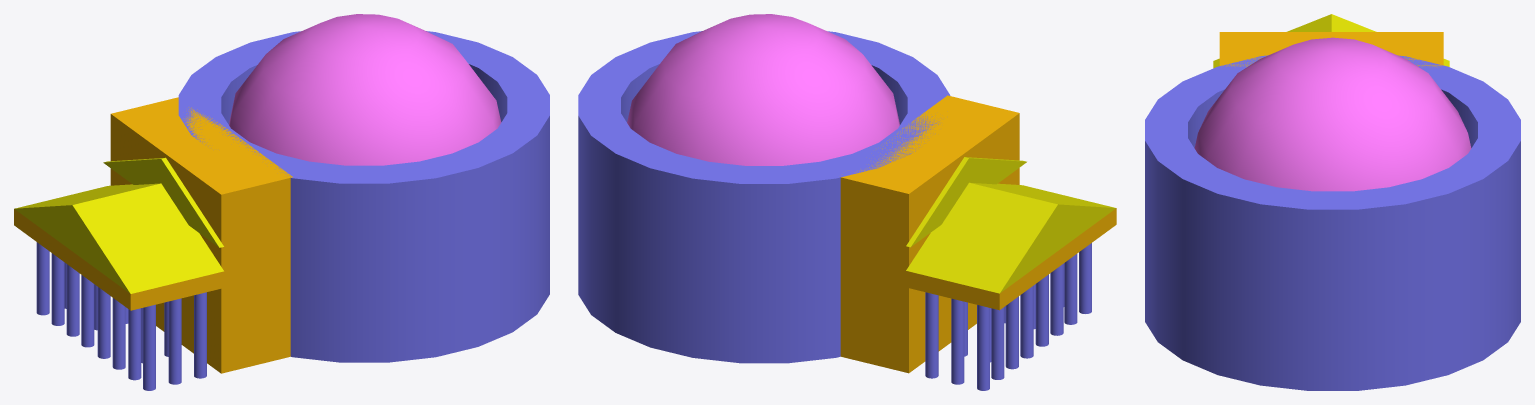
The model's file is Panteao_3D_V03_cm_Collada_GLB.glb.
3 renders of one model, left to right at view 1: azimuth 30°, elevation 25°; view 2: azimuth 150°, elevation 25°; view 3: azimuth 270°, elevation 25°, orthographic.
Parts seen in each view (by area): view 1: group_10, V-Ray_Sphere_Light, group_5, group_21, group_14, group_20, group_16, group_18, group_8, group_2, group_13, group_1 (+4 smaller); view 2: group_10, V-Ray_Sphere_Light, group_5, group_21, group_14, group_20, group_15, group_12, group_13, group_1, group_7, group_9 (+4 smaller); view 3: group_10, V-Ray_Sphere_Light, group_5, group_21.
Boxes of the visible parts, x1,y1,x2,y2 form: group_10: (178,31,549,362); V-Ray_Sphere_Light: (229,14,501,165); group_5: (110,97,292,373); group_21: (14,183,223,293); group_14: (14,209,224,310); group_20: (103,157,223,247); group_16: (168,298,181,384); group_18: (194,292,206,378); group_8: (143,304,155,390); group_2: (128,308,141,380); group_13: (36,242,49,315); group_1: (51,253,64,325); group_10: (578,31,950,363); V-Ray_Sphere_Light: (627,14,899,165); group_5: (840,95,1019,373); group_21: (906,182,1115,293); group_14: (906,208,1116,310); group_20: (906,157,1026,247); group_15: (925,292,938,378); group_12: (951,298,964,384); group_13: (977,305,989,390); group_1: (991,307,1004,379); group_7: (1020,285,1033,358); group_9: (1005,296,1018,369); group_10: (1145,55,1520,390); V-Ray_Sphere_Light: (1194,37,1471,191); group_5: (1219,32,1443,67); group_21: (1213,14,1449,68).
Bounding box in the file's own units: 7.29 × 4.02 × 5.17.
